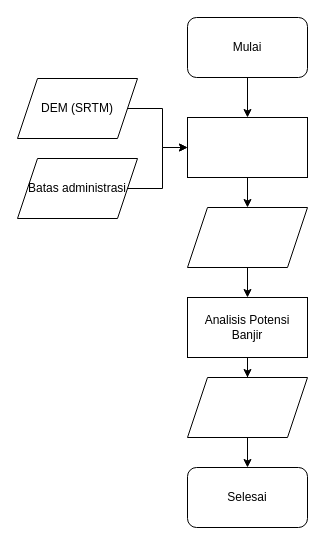
This 325x545 diagram has some shape labels left out. Here are the shapes that lost their labels. From the top down, the centre of each, then its label:
point 247,147: Perhitungan Slope & Akumulasi Aliran
point 247,237: Slope & Akumulasi Aliran IKN
point 247,407: Wilayah Potensi Banjir
